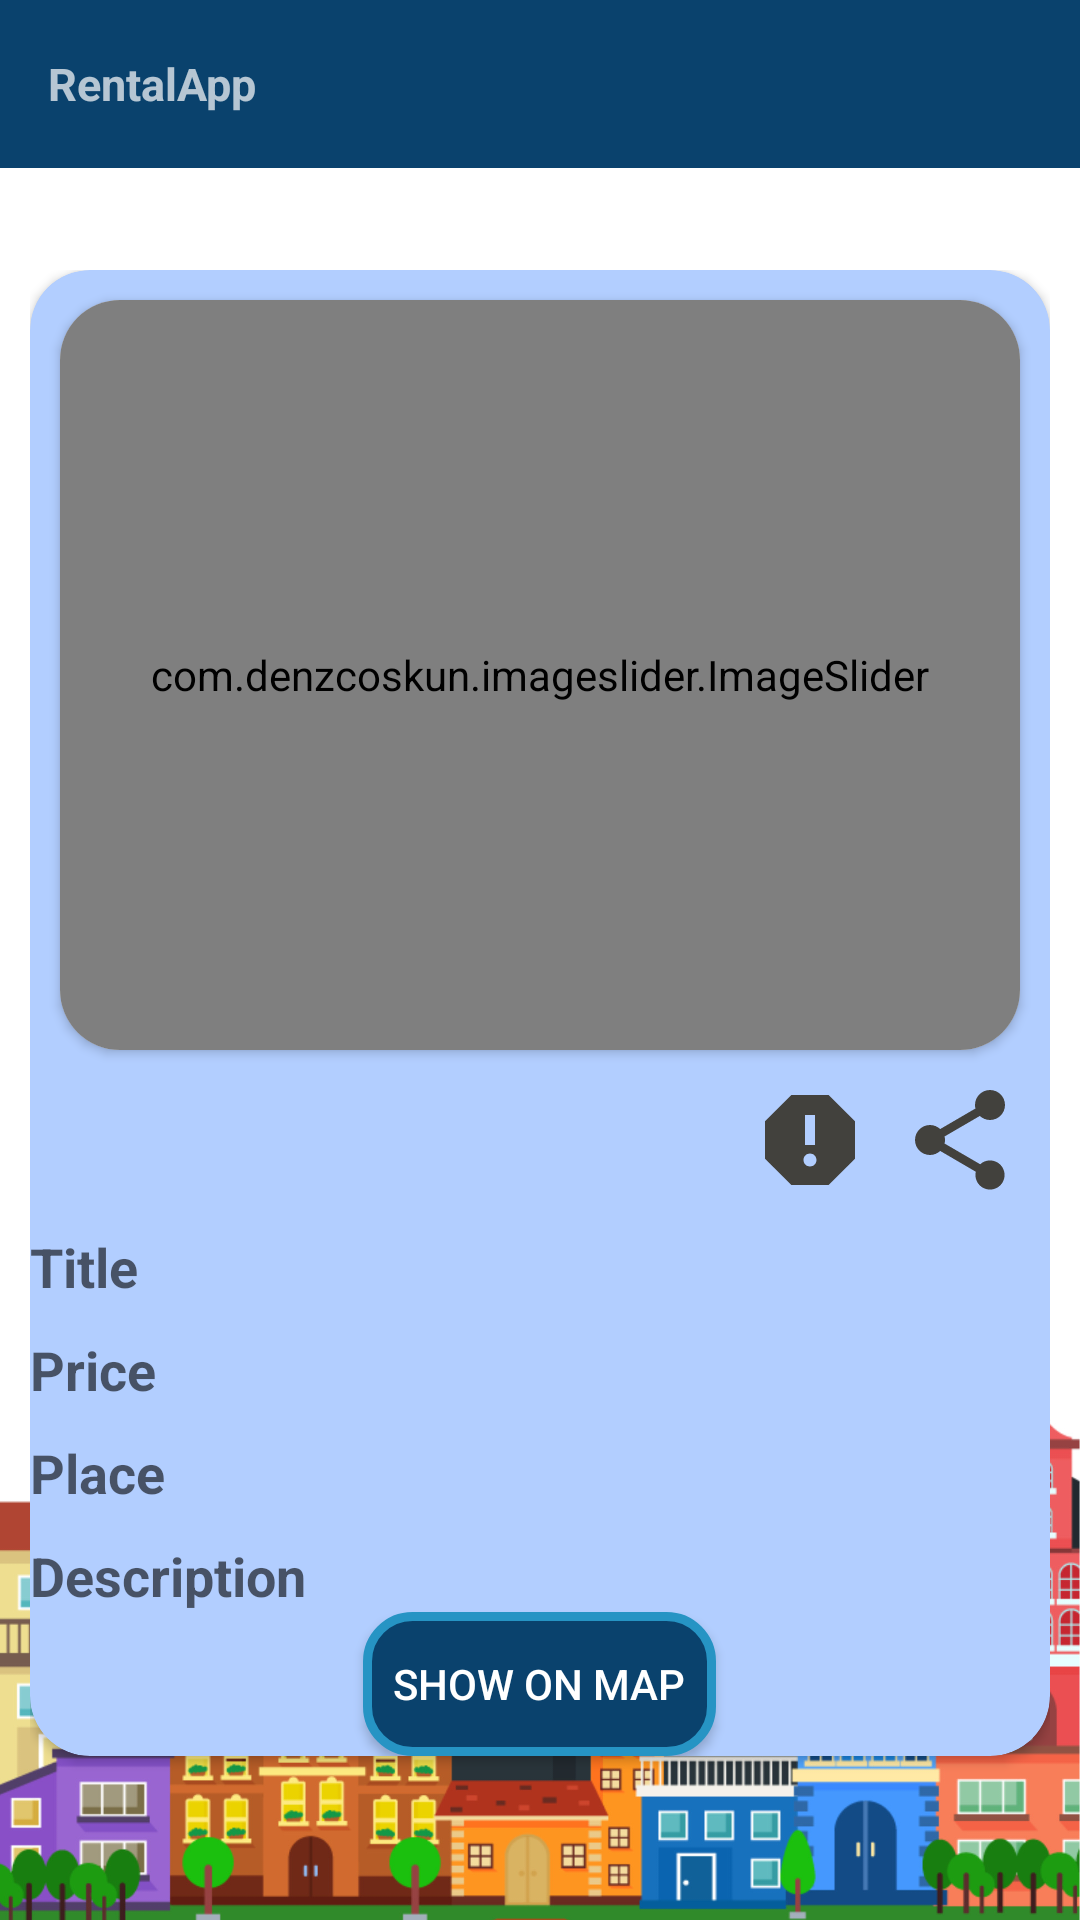

Named icons in this screenshot (1080px×1920px) and their bounding boxes, {"x1": x1, "y1": y1, "x2": x2, "y2": y2}:
report: {"x1": 765, "y1": 1095, "x2": 855, "y2": 1185}
share: {"x1": 915, "y1": 1090, "x2": 1005, "y2": 1190}
